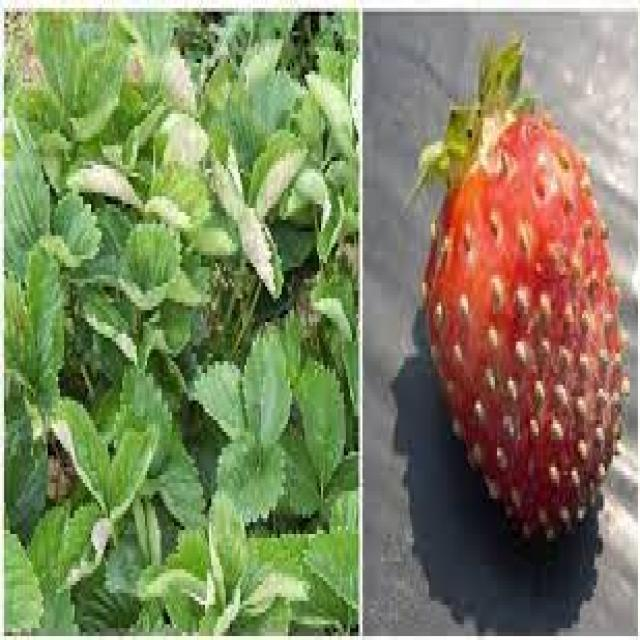Oído: (424, 111, 623, 536)
